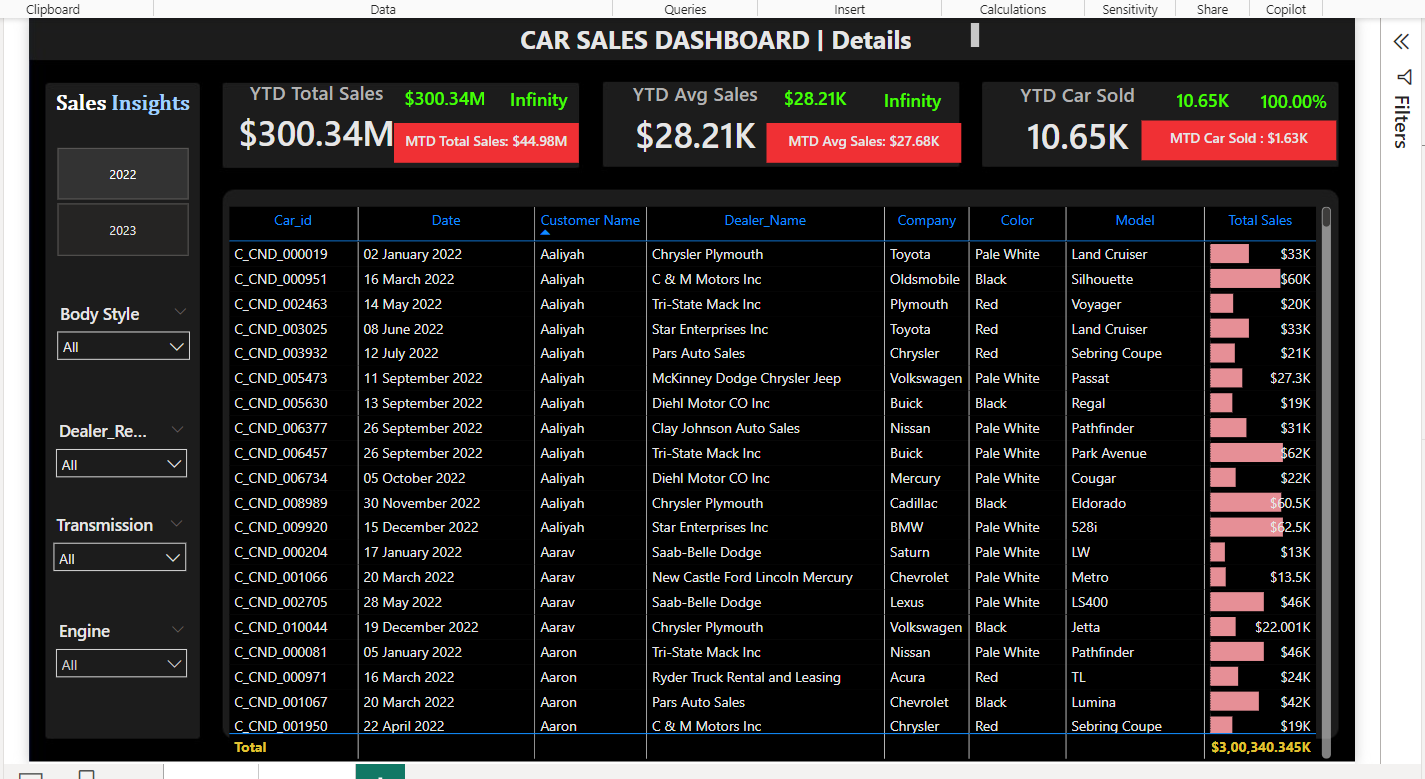

This screenshot's page, from the dashboard's own definition file:
{"tool":"powerbi","page":{"name":"Page 2","canvas":[1280,720],"ordinal":1},"visuals":[{"type":"card","title":"YTD Total Sales","fields":{"Values":["car_data.YTD Total Sales"]},"box":[187,59.1,181,79.6],"z":0},{"type":"card","title":"YTD Total Sales","fields":{"Values":["car_data.Sales Difference"]},"box":[352.3,59.1,98.9,39.8],"z":1000},{"type":"card","title":"YTD Total Sales","fields":{"Values":["car_data.YOY Sales Growth"]},"box":[451.2,60.3,82,39.8],"z":2000},{"type":"card","title":"YTD Total Sales","fields":{"Values":["car_data.MTD KPI"]},"box":[352.3,101.3,178.6,38.6],"z":3000},{"type":"card","title":"YTD Avg Sales","fields":{"Values":["car_data.YTD Average Price"]},"box":[556.2,60.3,173.7,79.6],"z":4000},{"type":"card","title":"YTD Total Sales","fields":{"Values":["car_data.Avg Price Difference"]},"box":[711.8,59.1,94.1,39.8],"z":5000},{"type":"card","title":"YTD Total Sales","fields":{"Values":["car_data.YOY Avg Price Growth"]},"box":[805.9,61.5,94.1,39.8],"z":6000},{"type":"card","title":"YTD Total Sales","fields":{"Values":["car_data.MTD AVG KPI"]},"box":[711.8,101.3,188.2,38.6],"z":7000},{"type":"card","title":"YTD Car Sold","fields":{"Values":["car_data.Car Sold"]},"box":[921.7,61.5,181,79.6],"z":8000},{"type":"card","title":"YTD Total Sales","fields":{"Values":["car_data.Car Sold Diffrences"]},"box":[1085.8,61.5,94.1,39.8],"z":9000},{"type":"card","title":"YTD Total Sales","fields":{"Values":["car_data.YOY Car SOld Growth"]},"box":[1179.9,62.7,82,39.8],"z":10000},{"type":"card","title":"YTD Total Sales","fields":{"Values":["car_data.MTD Car Sold KPI"]},"box":[1073.7,98.9,188.2,38.6],"z":11000},{"type":"textbox","box":[418.6,0,503.1,37.4],"z":12000},{"type":"slicer","fields":{"Values":["car_data.Body Style"]},"box":[16.5,269,148.2,79.6],"z":13000},{"type":"slicer","fields":{"Values":["car_data.Dealer_Region"]},"box":[15.1,382.8,146.8,78.2],"z":14000},{"type":"slicer","fields":{"Values":["car_data.Transmission"]},"box":[13.7,473.4,148.2,76.8],"z":15000},{"type":"slicer","fields":{"Values":["car_data.Engine"]},"box":[15.7,575.5,147.2,84.5],"z":16000},{"type":"tableEx","fields":{"Values":["car_data.Car_id","car_data.Date","car_data.Customer Name","car_data.Dealer_Name","car_data.Company","car_data.Color","car_data.Model","car_data.Total Sales"]},"box":[187,177.3,1074.9,542.9],"z":17000},{"type":"textbox","box":[15.7,65.1,149.6,37.4],"z":18000},{"type":"slicer","fields":{"Values":["Calender Table.Year"]},"box":[1.4,118,177,118],"z":19000}]}

Visuals, with their boxes on the page's 1280x720 design canvas (x1, y1, x2, y2). These are canvas units, not pixel positions in the 1425x779 screenshot, which may show the page scaled, cropped or inside an application window:
"YTD Total Sales" card: select_region(187, 59, 368, 139)
"YTD Total Sales" card: select_region(352, 59, 451, 99)
"YTD Total Sales" card: select_region(451, 60, 533, 100)
"YTD Total Sales" card: select_region(352, 101, 531, 140)
"YTD Avg Sales" card: select_region(556, 60, 730, 140)
"YTD Total Sales" card: select_region(712, 59, 806, 99)
"YTD Total Sales" card: select_region(806, 62, 900, 101)
"YTD Total Sales" card: select_region(712, 101, 900, 140)
"YTD Car Sold" card: select_region(922, 62, 1103, 141)
"YTD Total Sales" card: select_region(1086, 62, 1180, 101)
"YTD Total Sales" card: select_region(1180, 63, 1262, 102)
"YTD Total Sales" card: select_region(1074, 99, 1262, 138)
textbox: select_region(419, 0, 922, 37)
slicer - car_data.Body Style: select_region(16, 269, 165, 349)
slicer - car_data.Dealer_Region: select_region(15, 383, 162, 461)
slicer - car_data.Transmission: select_region(14, 473, 162, 550)
slicer - car_data.Engine: select_region(16, 576, 163, 660)
tableEx - car_data.Car_id x car_data.Date: select_region(187, 177, 1262, 720)
textbox: select_region(16, 65, 165, 102)
slicer - Calender Table.Year: select_region(1, 118, 178, 236)
